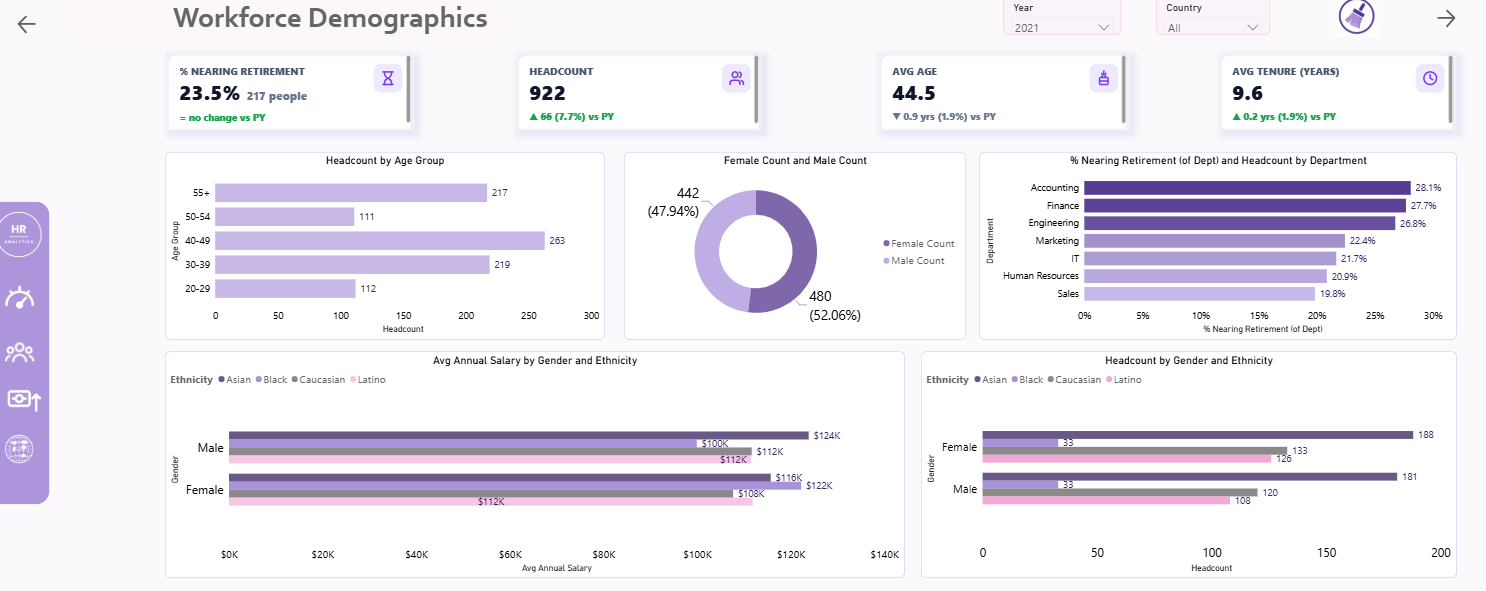

What the dashboard file says about the page in this screenshot:
{"tool":"powerbi","page":{"name":" Workforce Demographics","canvas":[2500,1000],"ordinal":2},"visuals":[{"type":"textbox","box":[125,0,714.3,72],"z":0},{"type":"slicer","fields":{"Values":["Dim_Date.Year"]},"box":[1682.5,0,196.2,64.6],"z":1000},{"type":"clusteredBarChart","fields":{"Y":["Fact_Employees.% Nearing Retirement (of Dept)"],"Category":["Dim_Job.Department"]},"box":[1642.5,260,795,312.5],"z":2000},{"type":"slicer","fields":{"Values":["Dim_Location.Country"]},"box":[1937.5,0,189.1,64.6],"z":3000},{"type":"clusteredBarChart","fields":{"Y":["Fact_Employees.Headcount"],"Category":["Fact_Employees.Age Group"]},"box":[285,260,732.5,312.5],"z":4000},{"type":"donutChart","fields":{"Y":["Fact_Employees.Female Count","Fact_Employees.Male Count"]},"box":[1050,260,570,312.5],"z":5000},{"type":"htmlContent443BE3AD55E043BF878BED274D3A6855","fields":{"content":["Fact_Employees.Avg Tenure (Years) Card HTML"]},"box":[2040,92.5,397.5,132.5],"z":6000},{"type":"image","box":[2207.5,0,127.4,67.9],"z":7000},{"type":"htmlContent443BE3AD55E043BF878BED274D3A6865","fields":{"content":["Fact_Employees.Active Employees Card HTML"]},"box":[867.5,92.5,412.5,132.5],"z":8000},{"type":"htmlContent443BE3AD55E043BF878BED274D3A6865","fields":{"content":["Fact_Employees.Avg Age Card HTML"]},"box":[1472.5,92.5,420,132.5],"z":9000},{"type":"htmlContent443BE3AD55E043BF878BED274D3A6865","fields":{"content":["Fact_Employees.% Nearing Retirement (Filtered) Card HTML"]},"box":[285,92.5,415,132.5],"z":10000},{"type":"clusteredBarChart","fields":{"Y":["Fact_Employees.Headcount"],"Category":["Dim_Employee.Gender"],"Series":["Dim_Employee.Ethnicity"]},"box":[1545,592.5,892.5,377.5],"z":11000},{"type":"shape","box":[0,342.5,92.5,505],"z":12000},{"type":"image","box":[0,470,85,62.5],"z":13000},{"type":"image","box":[0,567.5,85.3,52.5],"z":14000},{"type":"image","box":[7.5,642.5,87.5,62.5],"z":15000},{"type":"clusteredBarChart","fields":{"Category":["Dim_Employee.Gender"],"Series":["Dim_Employee.Ethnicity"],"Y":["Fact_Employees.Avg Annual Salary"]},"box":[285,592.5,1232.5,377.5],"z":16000},{"type":"image","box":[5,727.5,75,55],"z":17000},{"type":"image","box":[0,342.5,82.5,110],"z":18000},{"type":"actionButton","box":[2400,17.5,100,40],"z":19000},{"type":"actionButton","box":[35,27.5,100,40],"z":20000}]}

Visuals, with their boxes on the page's 2500x1000 design canvas (x1, y1, x2, y2). These are canvas units, not pixel positions in the 1486x591 screenshot, which may show the page scaled, cropped or inside an application window:
textbox: l=125, t=0, r=839, b=72
slicer - Dim_Date.Year: l=1682, t=0, r=1879, b=65
clusteredBarChart - Fact_Employees.% Nearing Retirement (of Dept) x Dim_Job.Department: l=1642, t=260, r=2438, b=572
slicer - Dim_Location.Country: l=1938, t=0, r=2127, b=65
clusteredBarChart - Fact_Employees.Headcount x Fact_Employees.Age Group: l=285, t=260, r=1018, b=572
donutChart - Fact_Employees.Female Count x Fact_Employees.Male Count: l=1050, t=260, r=1620, b=572
htmlContent443BE3AD55E043BF878BED274D3A6855 - Fact_Employees.Avg Tenure (Years) Card HTML: l=2040, t=92, r=2438, b=225
image: l=2208, t=0, r=2335, b=68
htmlContent443BE3AD55E043BF878BED274D3A6865 - Fact_Employees.Active Employees Card HTML: l=868, t=92, r=1280, b=225
htmlContent443BE3AD55E043BF878BED274D3A6865 - Fact_Employees.Avg Age Card HTML: l=1472, t=92, r=1892, b=225
htmlContent443BE3AD55E043BF878BED274D3A6865 - Fact_Employees.% Nearing Retirement (Filtered) Card HTML: l=285, t=92, r=700, b=225
clusteredBarChart - Fact_Employees.Headcount x Dim_Employee.Gender: l=1545, t=592, r=2438, b=970
shape: l=0, t=342, r=92, b=848
image: l=0, t=470, r=85, b=532
image: l=0, t=568, r=85, b=620
image: l=8, t=642, r=95, b=705
clusteredBarChart - Dim_Employee.Gender x Dim_Employee.Ethnicity: l=285, t=592, r=1518, b=970
image: l=5, t=728, r=80, b=782
image: l=0, t=342, r=82, b=452
actionButton: l=2400, t=18, r=2500, b=58
actionButton: l=35, t=28, r=135, b=68
